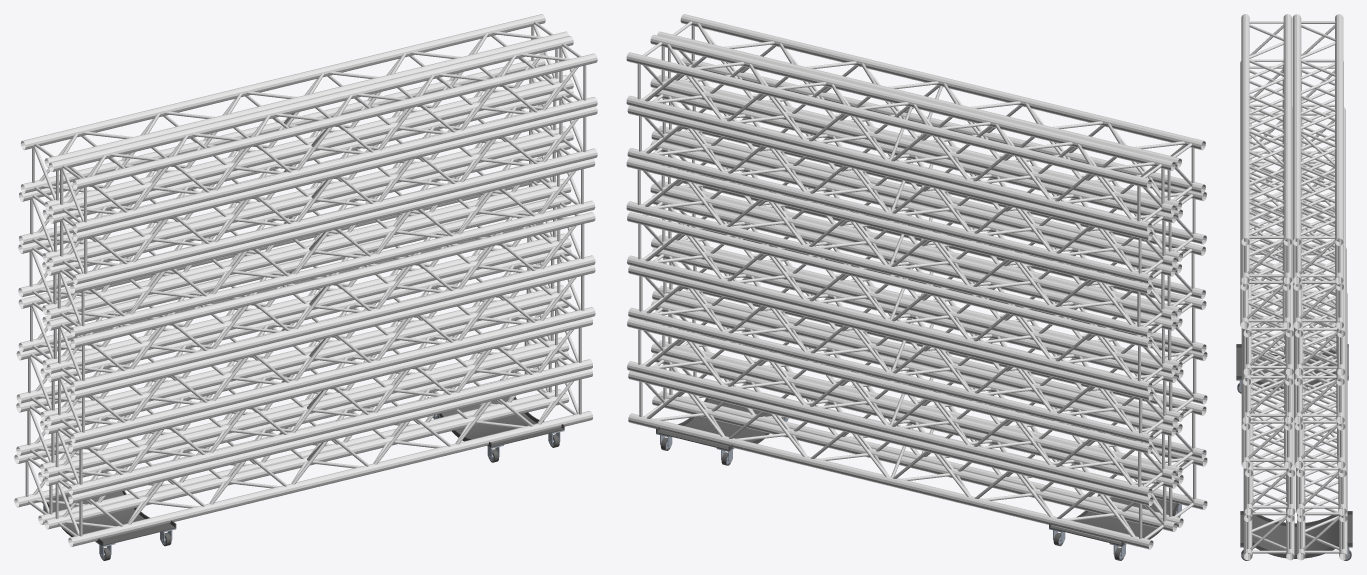
The model's file is Prolyte_H30v_3m_7_high_skp-083f4a70.glb.
3 renders of one model, left to right at view 1: azimuth 30°, elevation 25°; view 2: azimuth 150°, elevation 25°; view 3: azimuth 270°, elevation 25°, orthographic. The views are drawn at different scales.
Visible parts, largest first — view 1: Component (×14), Component#2 (×2); view 2: Component (×14), Component#2 (×2); view 3: Component (×14), Component#2 (×2).
Part boxes in pixels (x1,y1,x2,y2): Component (×14): (14,14,597,546); Component#2 (×2): (45,379,564,545); Component (×14): (626,14,1207,549); Component#2 (×2): (656,398,1185,545); Component (×14): (1240,14,1347,560); Component#2 (×2): (1236,344,1352,558).
Size of the model in its own units: 3.02 by 2.13 by 0.6568.
6 materials, 2 textured.
